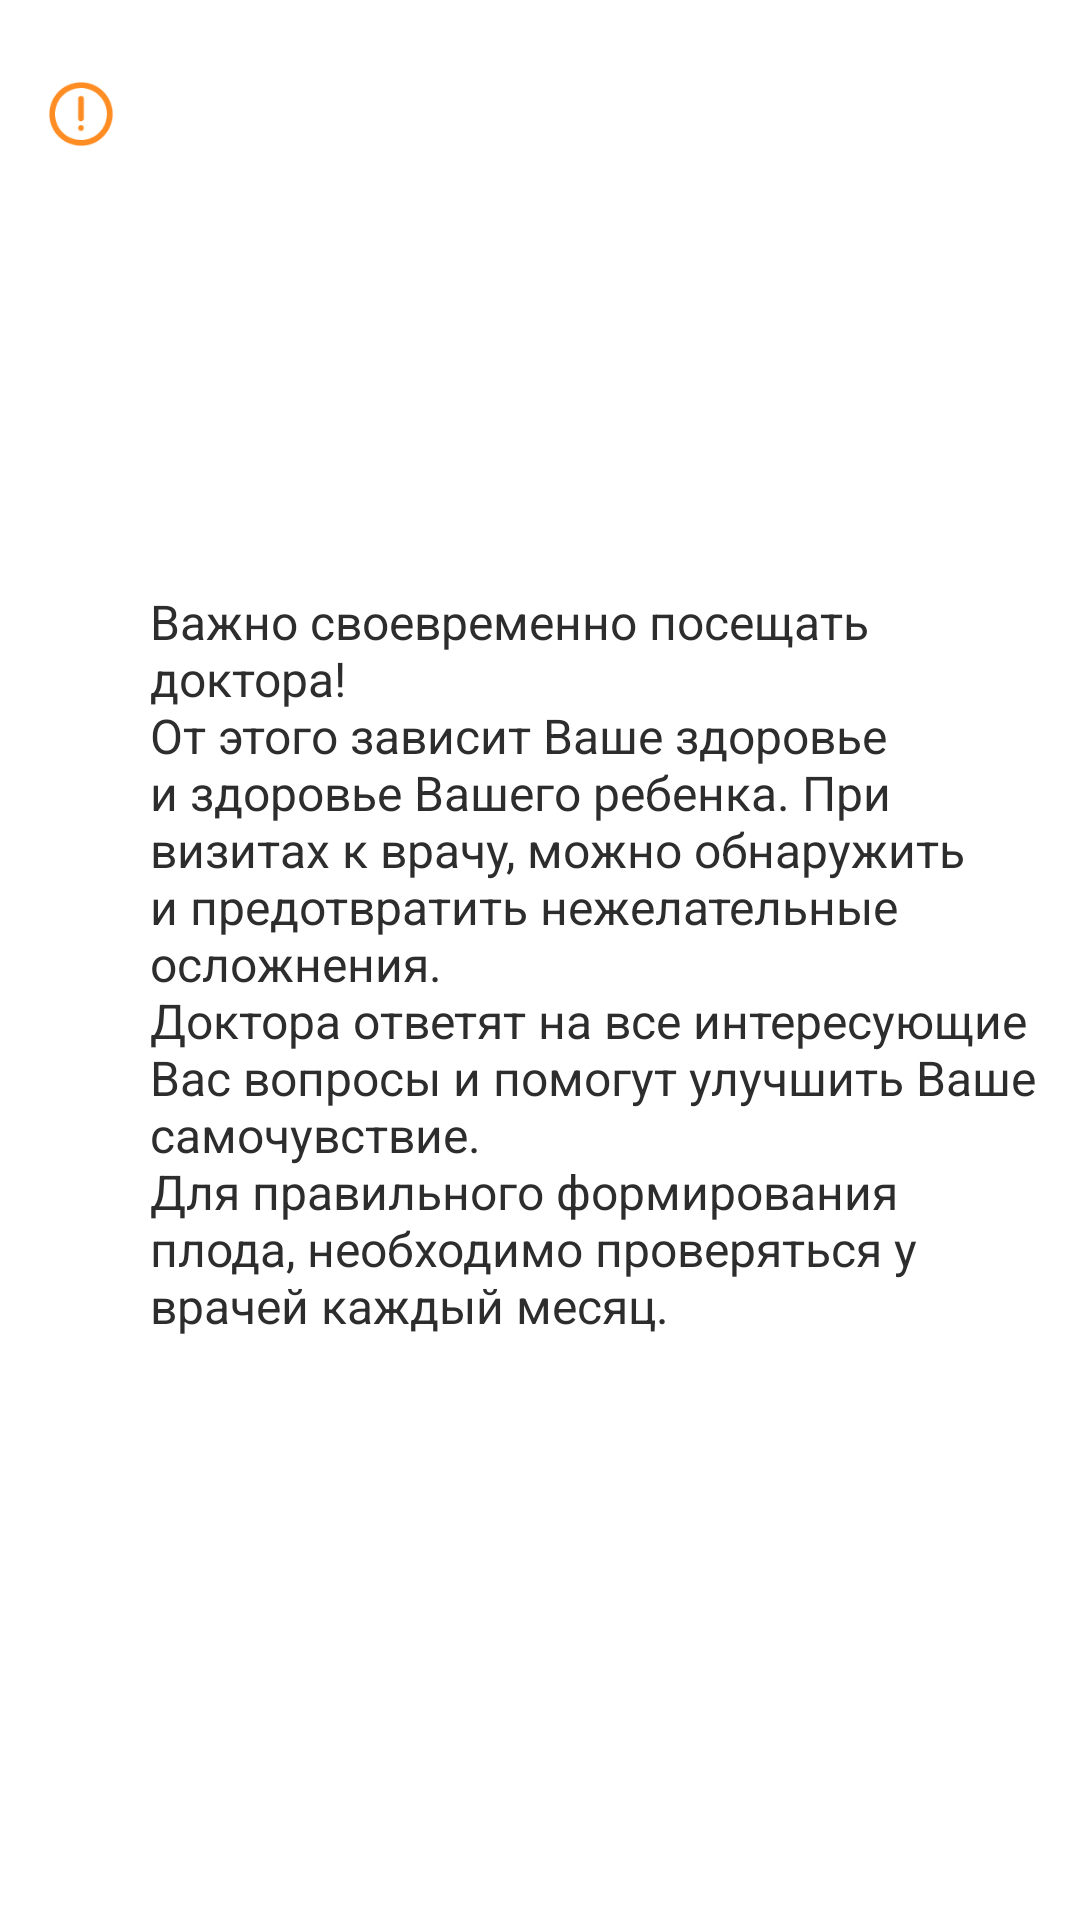

Where icons sit on this 1080 × 1920 app screen, as BBox(x1, y1, x2, y2):
attention: BBox(49, 82, 113, 146)
